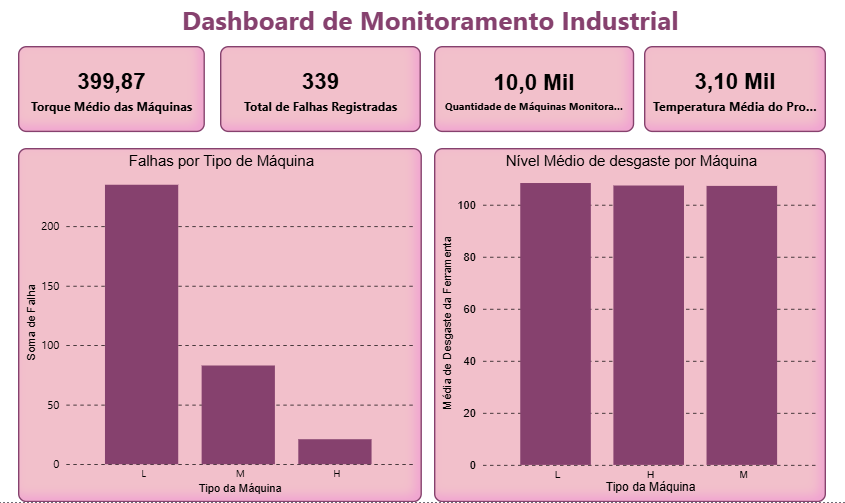

Layout of this report page (visuals, bound fields, positions):
{"tool":"powerbi","page":{"name":"Visão Geral","canvas":[1280,720],"ordinal":0},"visuals":[{"type":"card","fields":{"Values":["CountNonNull(manutencao_tratada.machine_type)"]},"box":[657.1,68.6,285.7,122.9],"z":0},{"type":"card","fields":{"Values":["Sum(manutencao_tratada.machine_failure)"]},"box":[351.4,68.6,287.1,122.9],"z":1000},{"type":"card","fields":{"Values":["Avg(manutencao_tratada.torque)"]},"box":[62.9,68.6,267.1,122.9],"z":2000},{"type":"card","fields":{"Values":["Avg(manutencao_tratada.process_temperature)"]},"box":[957.1,68.6,260,122.9],"z":3000},{"type":"columnChart","title":"Falhas por Tipo de Máquina","fields":{"Category":["manutencao_tratada.machine_type"],"Y":["Sum(manutencao_tratada.machine_failure)"]},"box":[62.9,214.3,577.1,505.7],"z":4000},{"type":"columnChart","title":"Nível Médio de desgaste por Máquina ","fields":{"Category":["manutencao_tratada.machine_type"],"Y":["Avg(manutencao_tratada.tool_wear)"]},"box":[657.1,214.3,560,505.7],"z":5000},{"type":"textbox","box":[52.3,0,1208.4,59.2],"z":6000}]}

Visuals, with their boxes in screenshot pixels (x1, y1, x2, y2):
card - CountNonNull(manutencao_tratada.machine_type): 431, 44, 631, 130
card - Sum(manutencao_tratada.machine_failure): 217, 44, 418, 130
card - Avg(manutencao_tratada.torque): 15, 44, 202, 130
card - Avg(manutencao_tratada.process_temperature): 641, 44, 823, 130
"Falhas por Tipo de Máquina" columnChart: 15, 146, 419, 499
"Nível Médio de desgaste por Máquina " columnChart: 431, 146, 823, 499
textbox: 8, 0, 844, 37
